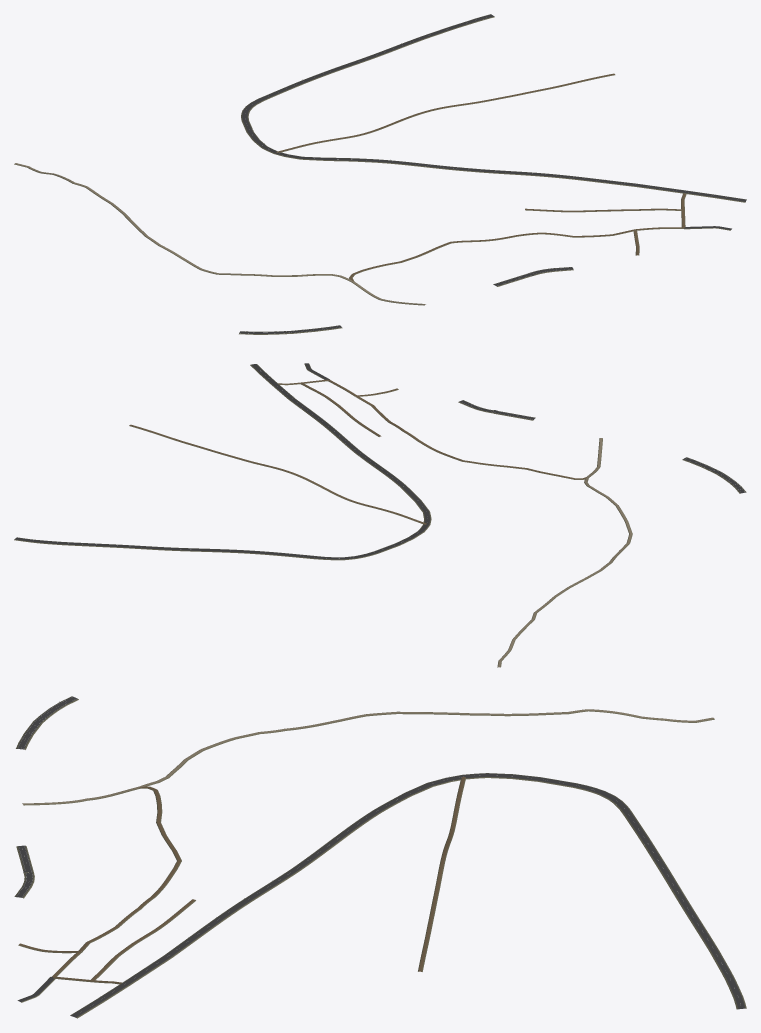
The picture shows the model from 3 angles, top to bottom: view 1: azimuth 30°, elevation 25°; view 2: azimuth 150°, elevation 25°; view 3: azimuth 270°, elevation 25°; orthographic projection. The views are drawn at different scales.
Parts seen in each view (by area): view 1: roads; view 2: roads; view 3: roads.
Part boxes in pixels (x1,y1,x2,y2): roads: [14, 14, 746, 334]; roads: [14, 363, 746, 667]; roads: [14, 696, 746, 1018].
Size of the model in its own units: 819 by 77.8 by 760.
